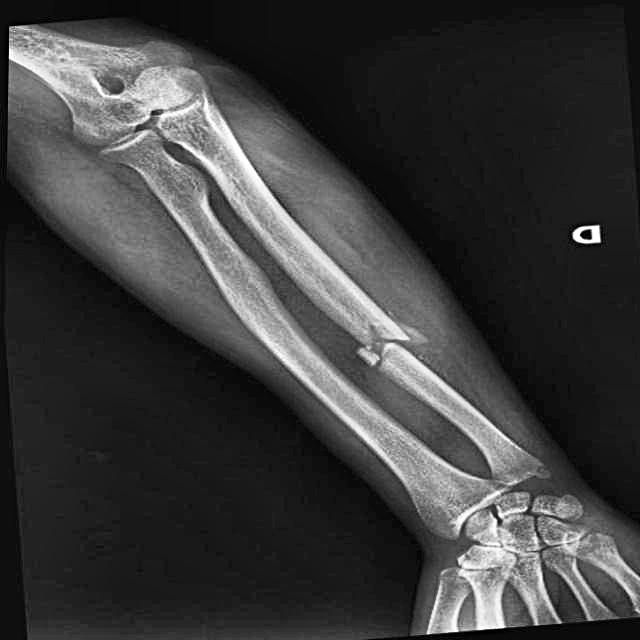Comminuted: (324, 296, 464, 388)
